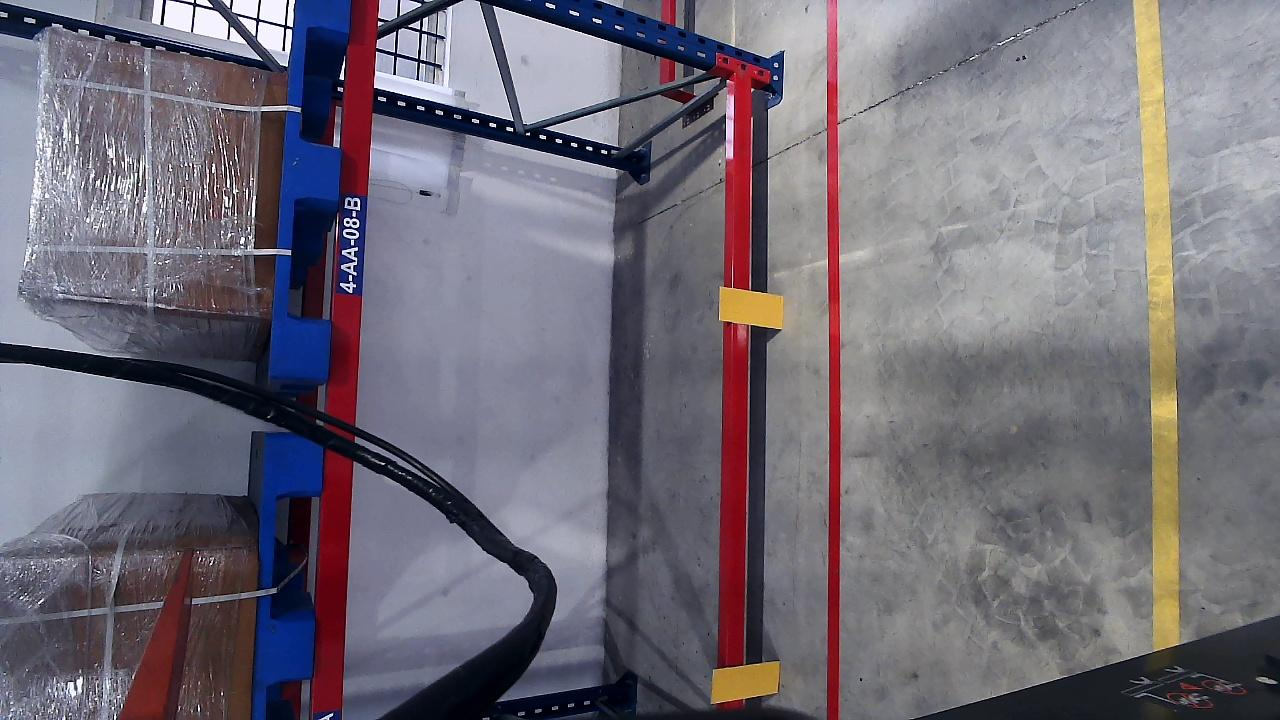h_rack: (318, 0, 383, 720), (726, 76, 758, 658)
orange_strip: (711, 660, 780, 702), (719, 285, 784, 328)
red_line: (822, 0, 844, 720)
small_pallet: (271, 0, 353, 381), (253, 430, 321, 720)
yellow_line: (1135, 0, 1181, 653)
